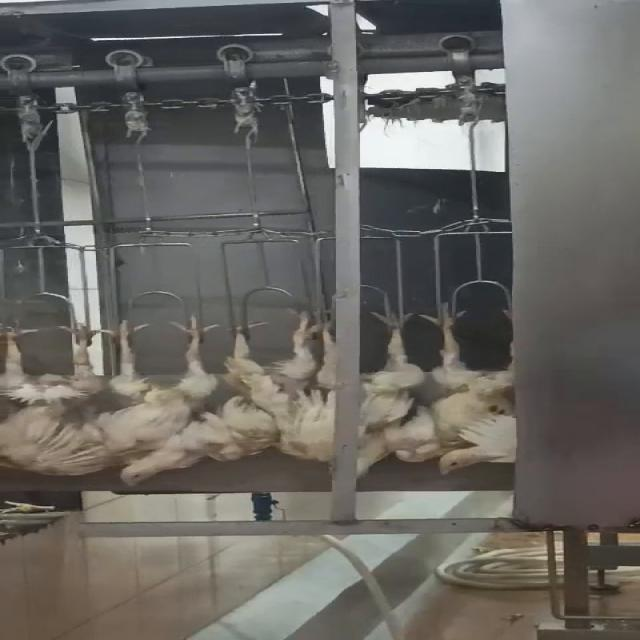chicken: (0, 318, 115, 482), (110, 313, 216, 488), (422, 298, 521, 480), (347, 298, 432, 486), (220, 307, 318, 466), (274, 310, 341, 469)
